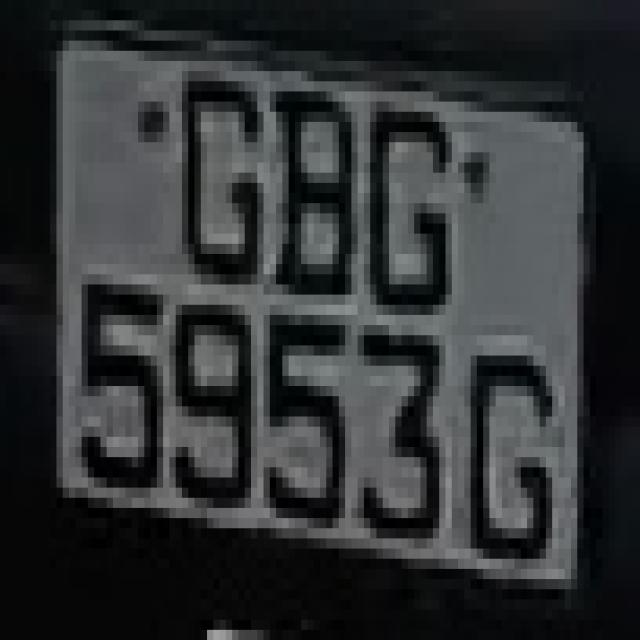3: (339, 274, 433, 549)
5: (69, 223, 169, 508), (257, 254, 358, 528)
9: (150, 234, 270, 538)
B: (251, 61, 370, 305)
G: (150, 20, 270, 305), (471, 325, 558, 589), (364, 92, 452, 325)
